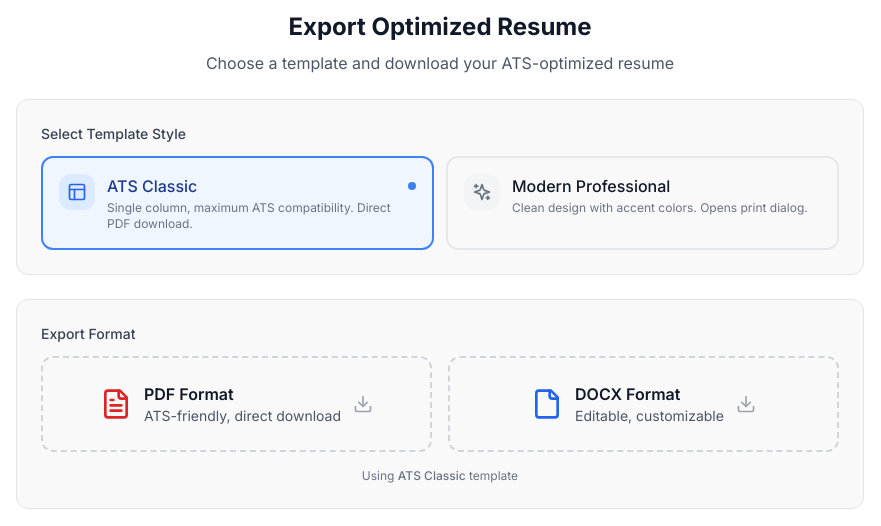
Test: DocumentExport › shows loading state during export
Click the button "PDF Format ATS-friendly, direct download" at {"x": 236, "y": 404}, box [41,356,432,452]
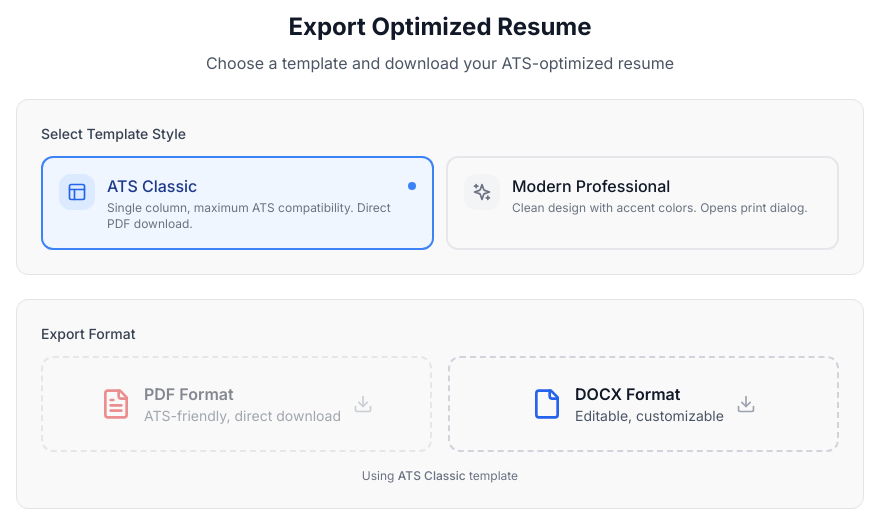
Check: the button "PDF Format ATS-friendly, direct download" is disabled, box [41,356,432,452]
